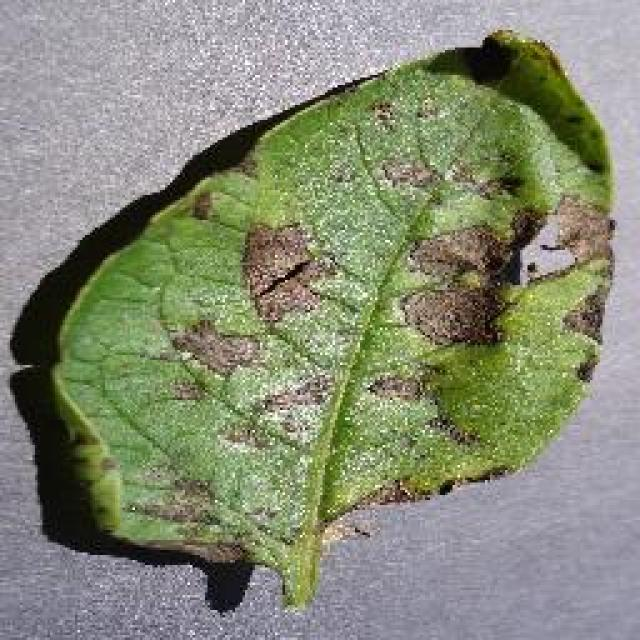early_blight: (40, 25, 620, 613)
